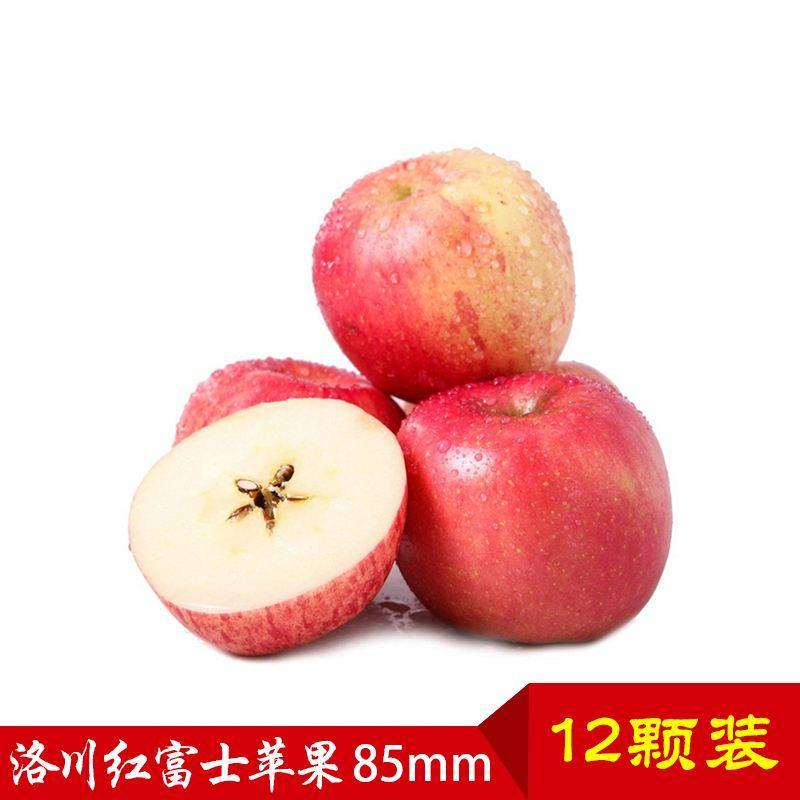apple: (391, 366, 672, 644), (309, 143, 574, 403)
